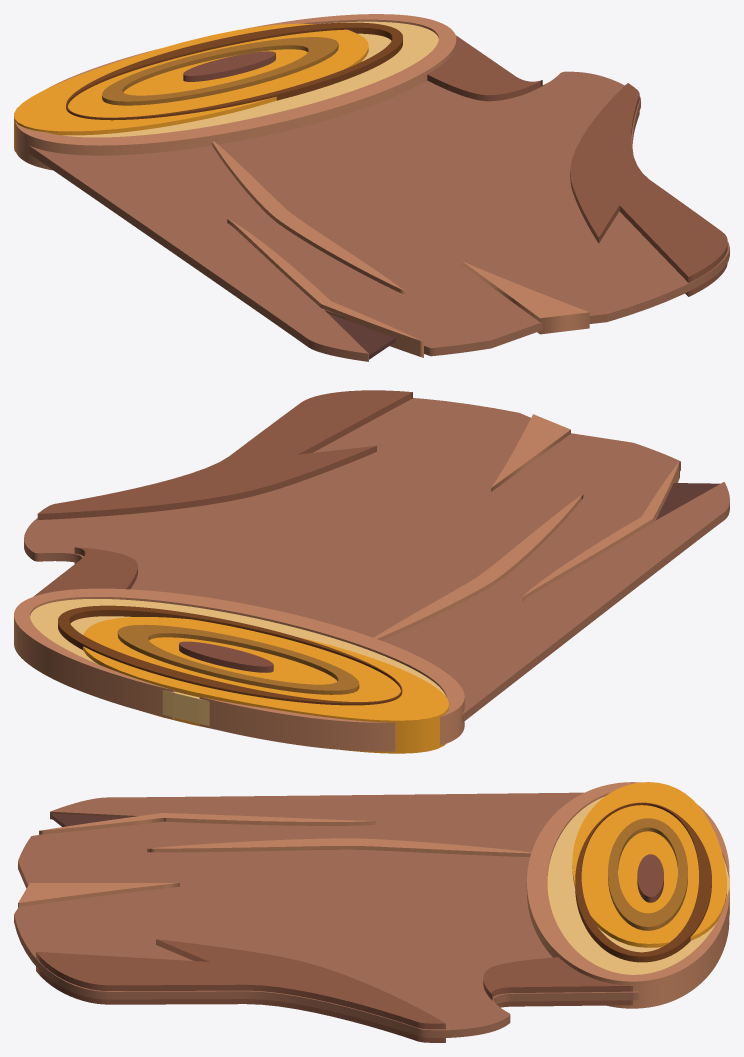
File: emoji_u1fab5.glb
The picture shows the model from 3 angles, top to bottom: view 1: azimuth 30°, elevation 25°; view 2: azimuth 150°, elevation 25°; view 3: azimuth 270°, elevation 25°; orthographic projection. The views are drawn at different scales.
Parts seen in each view (by area): view 1: emoji_u1fab5; view 2: emoji_u1fab5; view 3: emoji_u1fab5.
Boxes of the visible parts, x1,y1,x2,y2 form: emoji_u1fab5: (14,14,729,361); emoji_u1fab5: (14,390,729,753); emoji_u1fab5: (14,782,729,1042).
Size of the model in its own units: 0.0264 by 0.0022 by 0.0335.
